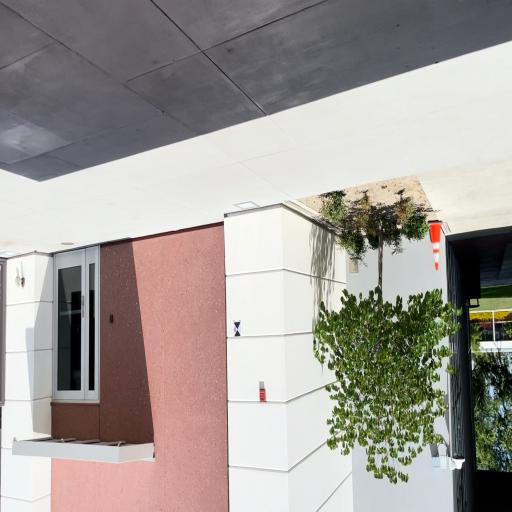target9: (234, 321, 241, 335)
